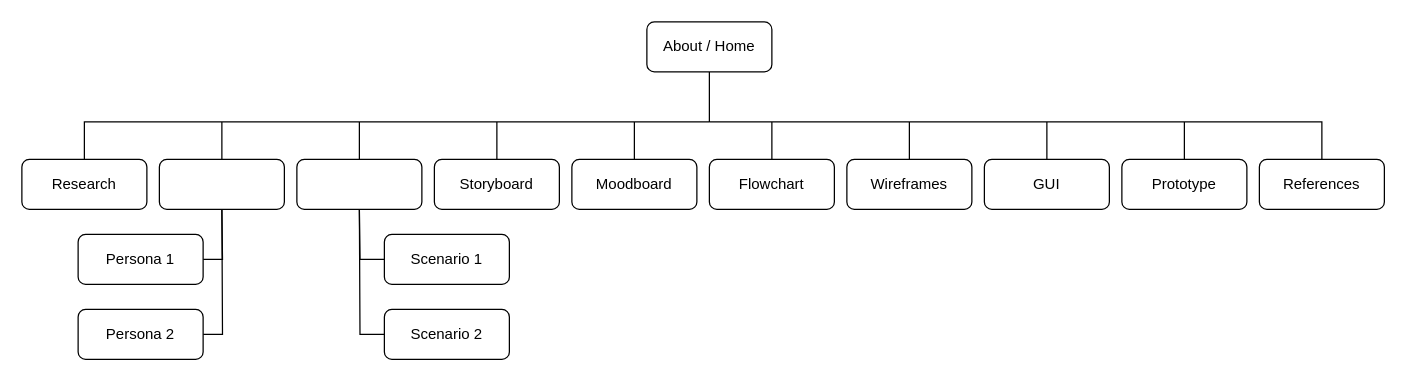
This 1406x381 diagram has some shape labels left out. The centre of each missing label's shape, as x and y in pixels:
Personas: (221,183)
Scenarios: (359,183)
